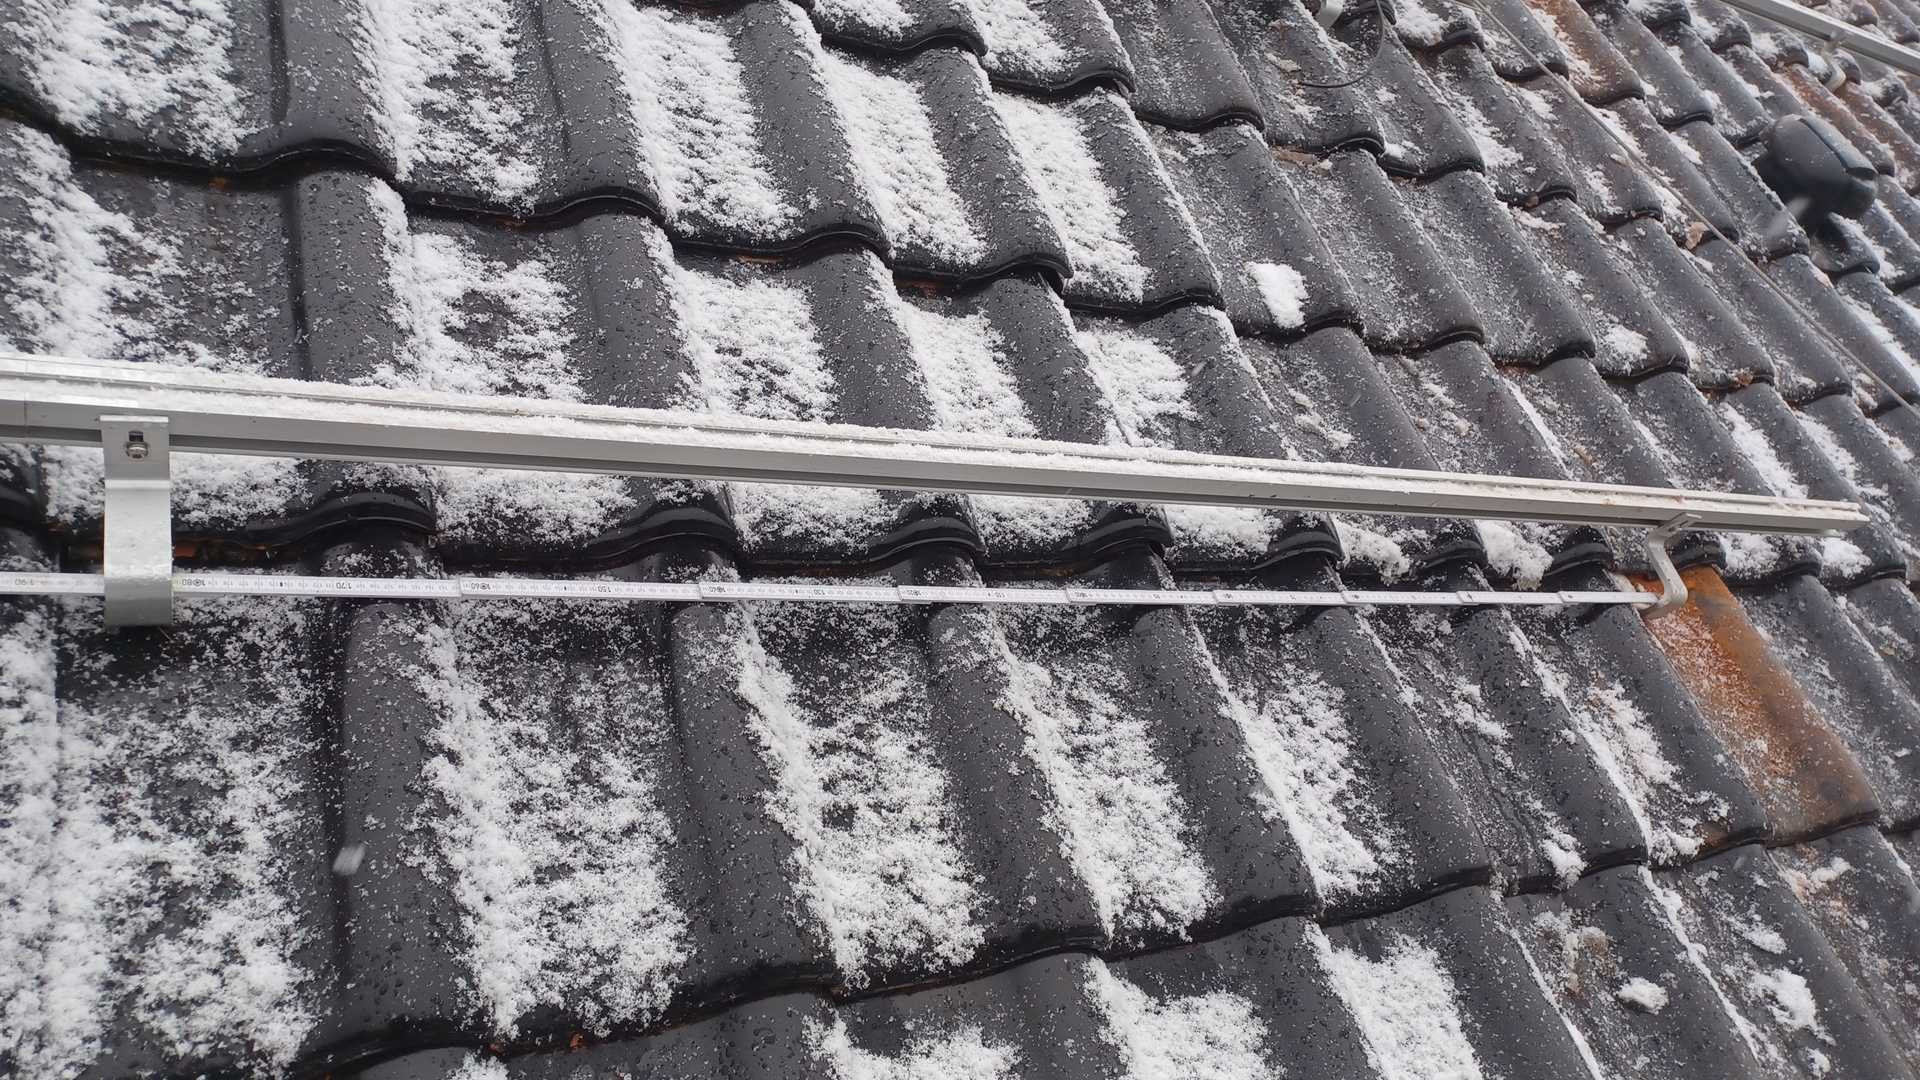hook: (99, 414, 171, 626), (1611, 513, 1702, 620)
